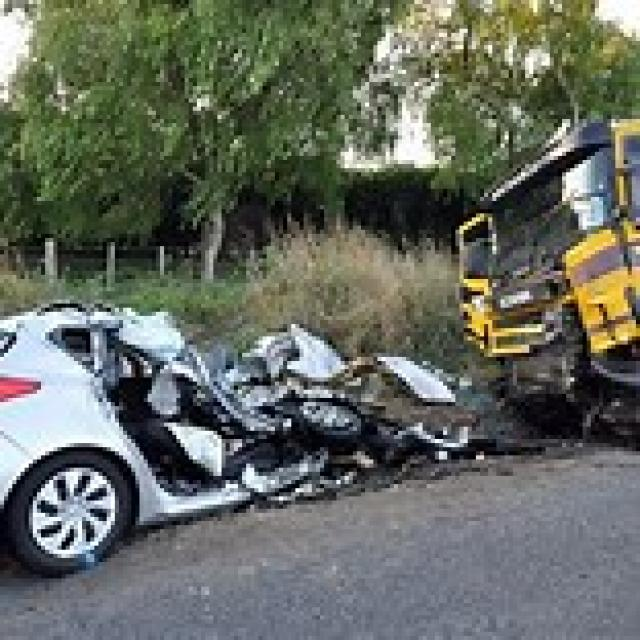Accident: (28, 118, 640, 545)
